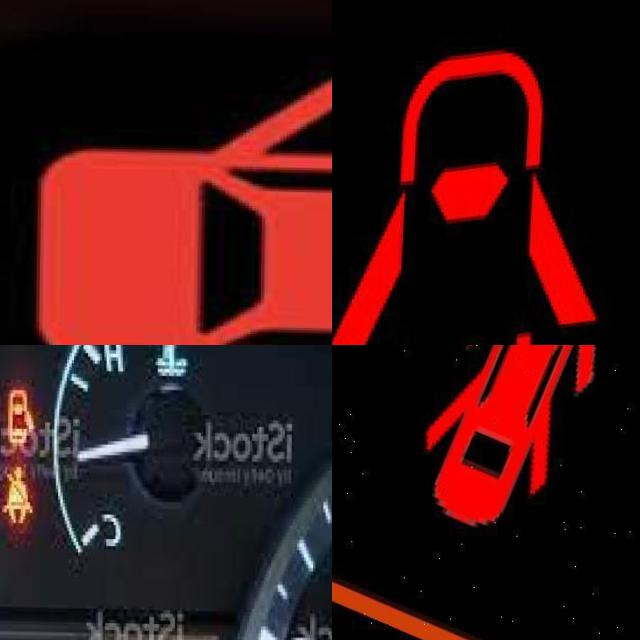Seat Belt: (2, 459, 34, 528)
